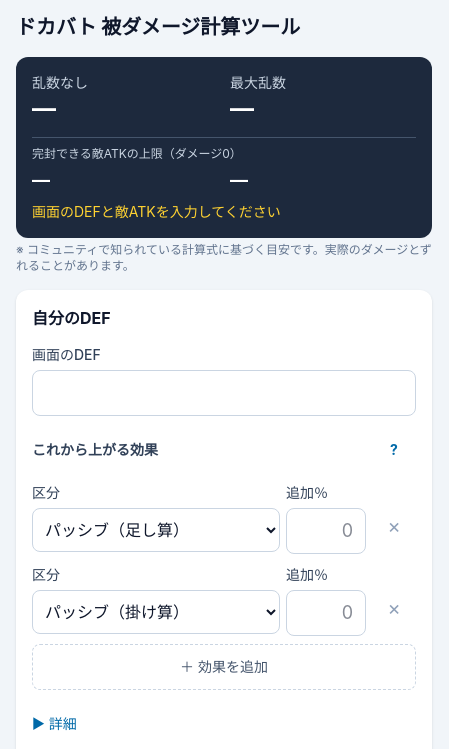
Scenario: App（目安表示・エラー表示） › 負の敵ATK では入力欄の下にエラーを出し、結果は「―」
Type "19500" into the field labelled "画面のDEF" at point(224, 393), box [32,370,416,416]
(page scrolled)
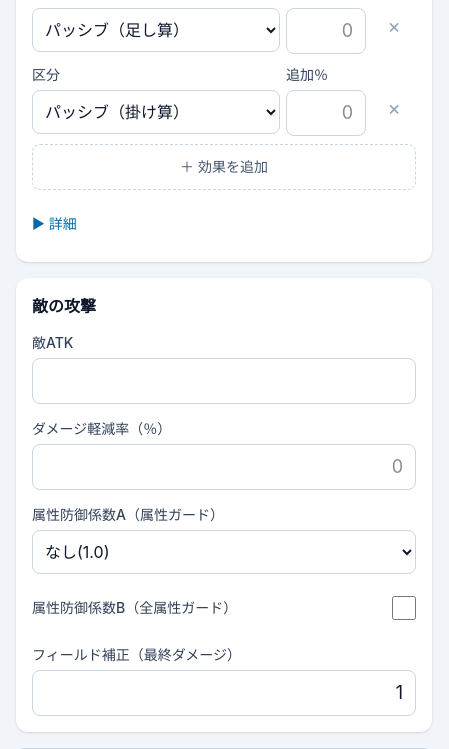
Type "-1" into the field labelled "敵ATK" at point(224, 381), box [32,358,416,404]
(page scrolled)
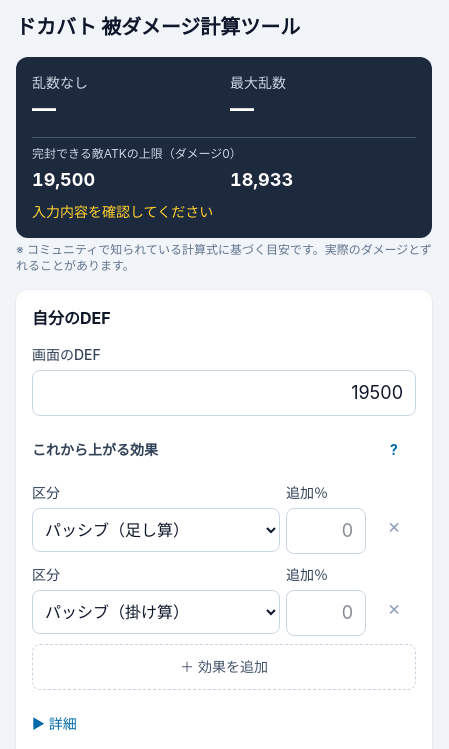
Expected: the message reads "入力内容を確認してください", [32,203,213,220]
